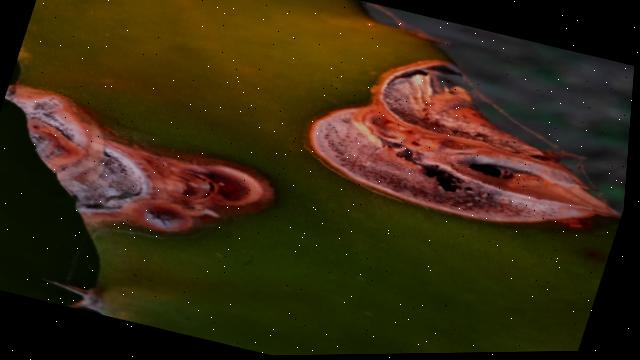stemcanker: (307, 59, 622, 232), (7, 76, 273, 239)
